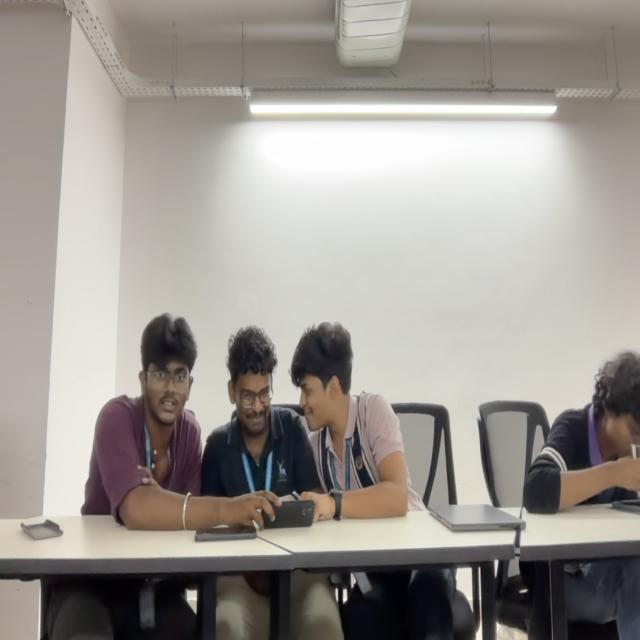Isolated: (522, 348, 640, 514)
socializing: (82, 310, 423, 525)
